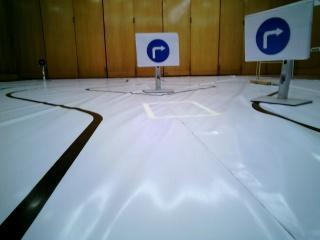right: (241, 13, 312, 58), (137, 35, 181, 65)
